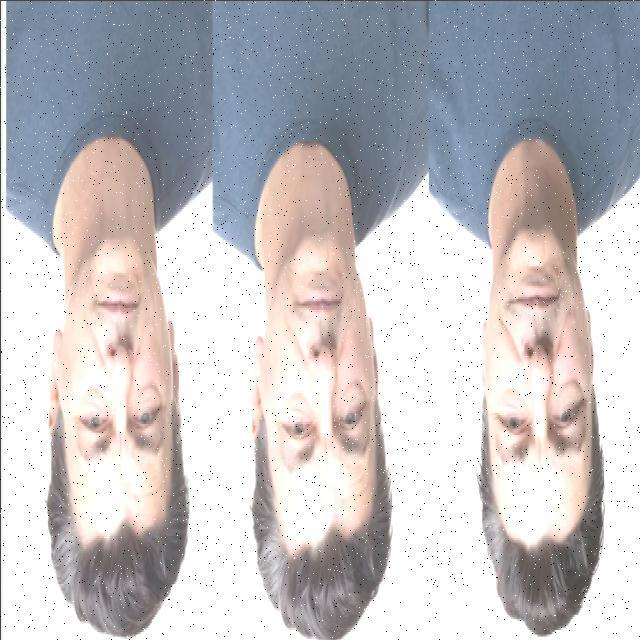face_no_mask: (42, 230, 183, 538), (249, 232, 386, 534), (476, 224, 600, 556)
